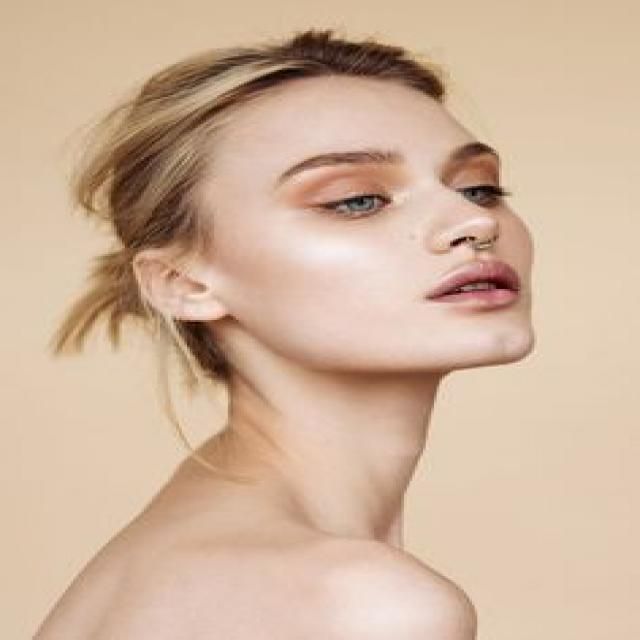earlobe: (182, 290, 227, 324)
eye: (316, 193, 395, 217), (458, 185, 508, 208)
nose: (427, 234, 537, 268)
wholeear: (133, 249, 228, 324)
